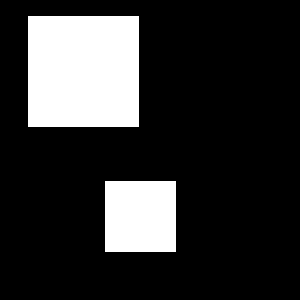circle: (28, 16, 139, 127), (54, 32, 137, 115), (105, 181, 176, 252)
